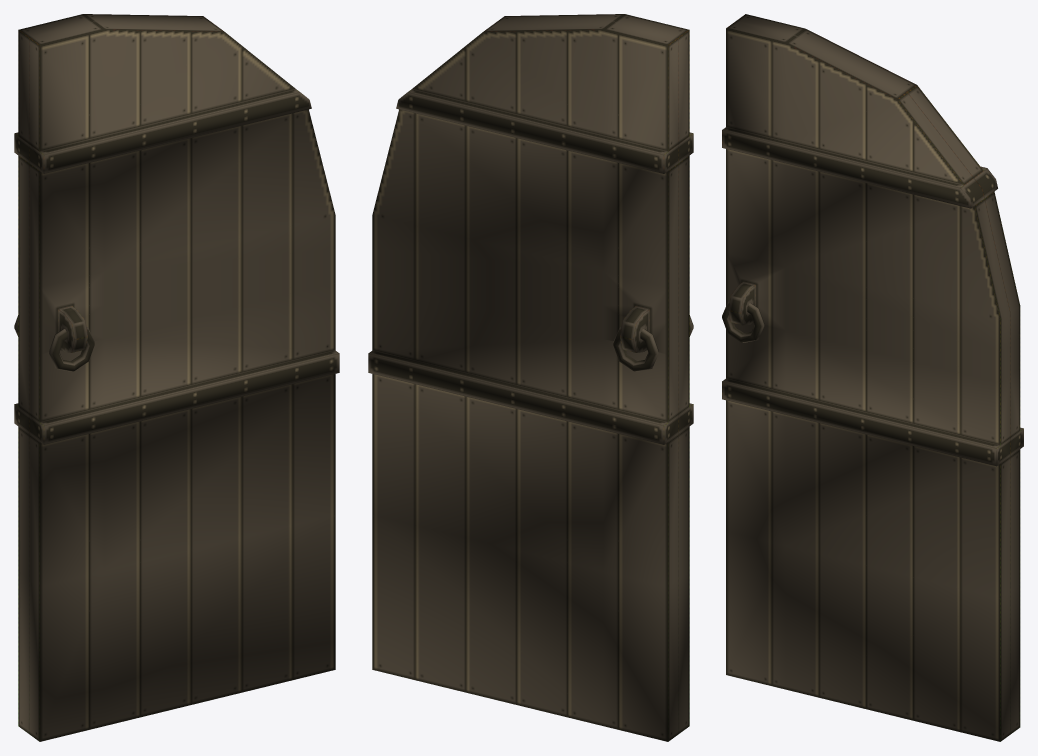
The model's file is Door.fbx.
3 renders of one model, left to right at view 1: azimuth 30°, elevation 25°; view 2: azimuth 150°, elevation 25°; view 3: azimuth 330°, elevation 25°, orthographic. The views are drawn at different scales.
Parts seen in each view (by area): view 1: Door; view 2: Door; view 3: Door.
Part boxes in pixels (box(x1,y1,x2,y2)): Door: box(14, 14, 339, 741); Door: box(368, 14, 693, 741); Door: box(722, 14, 1023, 741).
Size of the model in its own units: 400 by 900 by 125.
